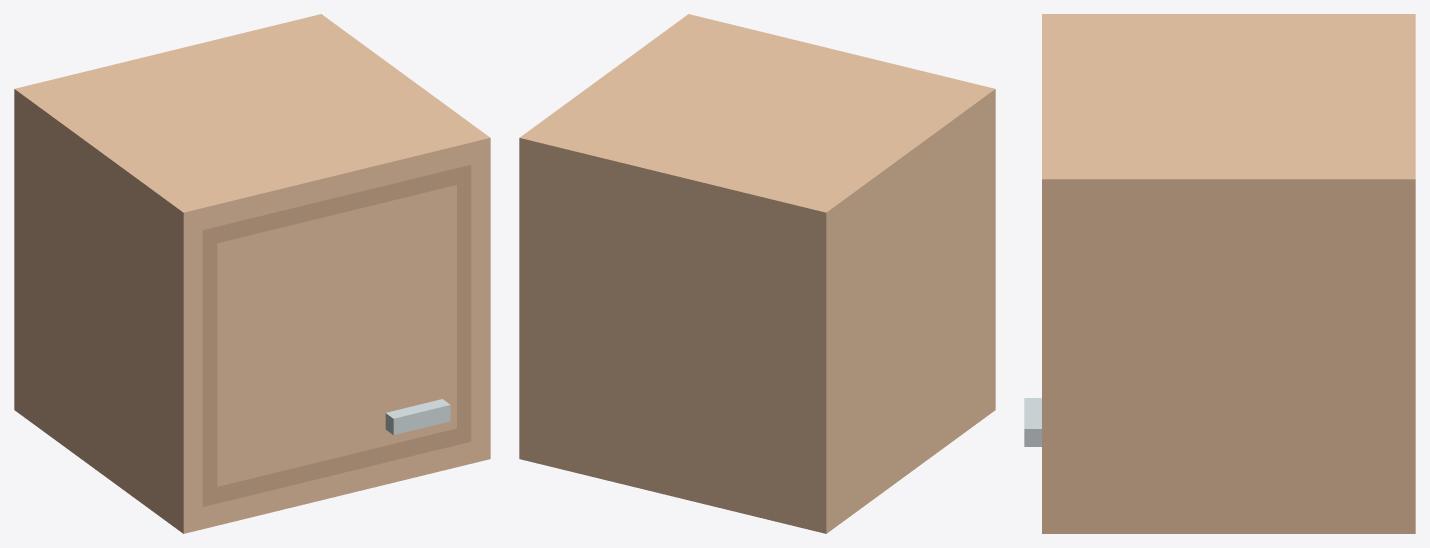
Rendered from kn-kitchen-cabinet-upper.glb.
The picture shows the model from 3 angles, left to right: view 1: azimuth 30°, elevation 25°; view 2: azimuth 150°, elevation 25°; view 3: azimuth 270°, elevation 25°; orthographic projection. The views are drawn at different scales.
Visible parts, largest first — view 1: kitchenCabinetUpper(Clone), door; view 2: kitchenCabinetUpper(Clone); view 3: kitchenCabinetUpper(Clone), door.
Part boxes in pixels (x1,y1,x2,y2): kitchenCabinetUpper(Clone): (14, 14, 490, 533); door: (202, 165, 471, 506); kitchenCabinetUpper(Clone): (519, 14, 995, 533); kitchenCabinetUpper(Clone): (1042, 14, 1415, 533); door: (1024, 398, 1041, 446).
Size of the model in its own units: 1 by 1 by 1.
